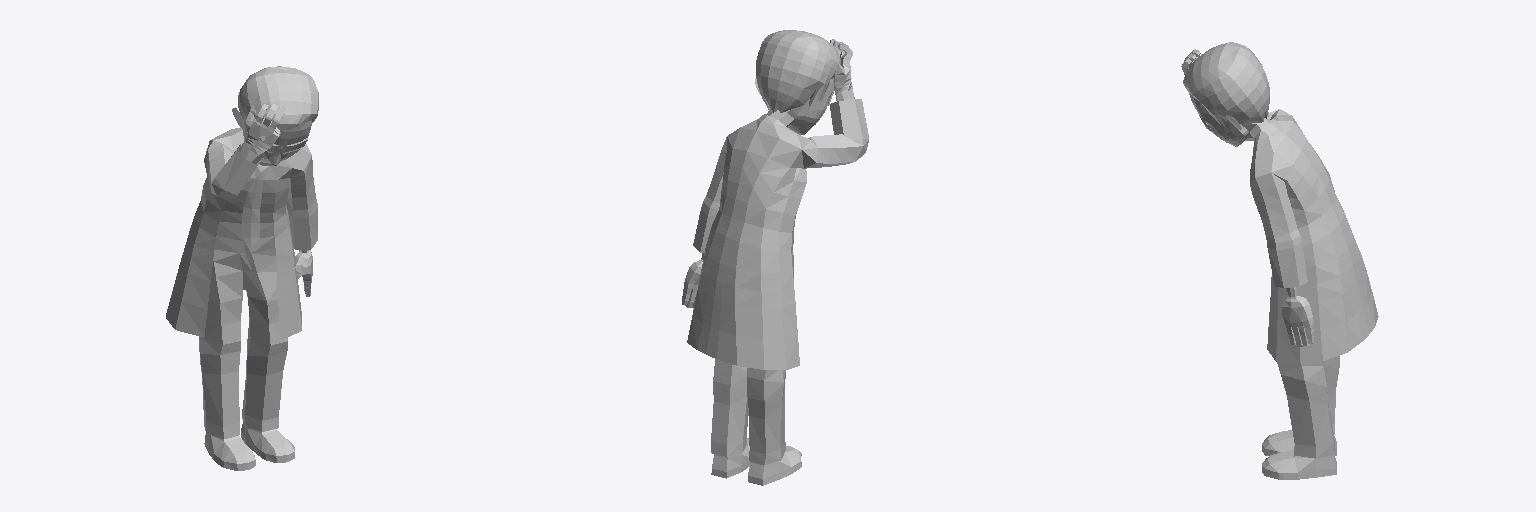
The model's file is T_Scientist1.obj.
3 views of the same model, side by side, from view 1: azimuth 30°, elevation 25°; view 2: azimuth 150°, elevation 25°; view 3: azimuth 270°, elevation 25° (orthographic).
Parts seen in each view (by area): view 1: tr0086_00; view 2: tr0086_00; view 3: tr0086_00.
Boxes of the visible parts, <box> form: tr0086_00: <box>166,66,318,470</box>; tr0086_00: <box>682,30,868,485</box>; tr0086_00: <box>1181,42,1378,479</box>.
Bounding box in the file's own units: 0.766 × 2.14 × 0.9336.